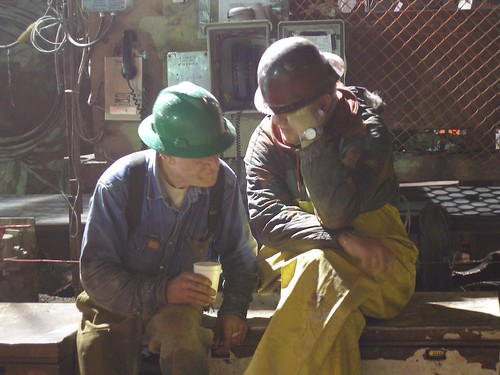person hardhat: (248, 33, 427, 375), (82, 80, 257, 374)
